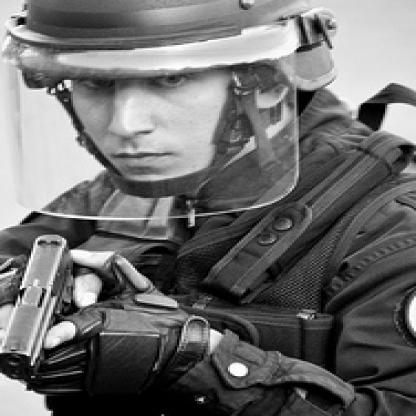gun: (0, 226, 104, 410)
